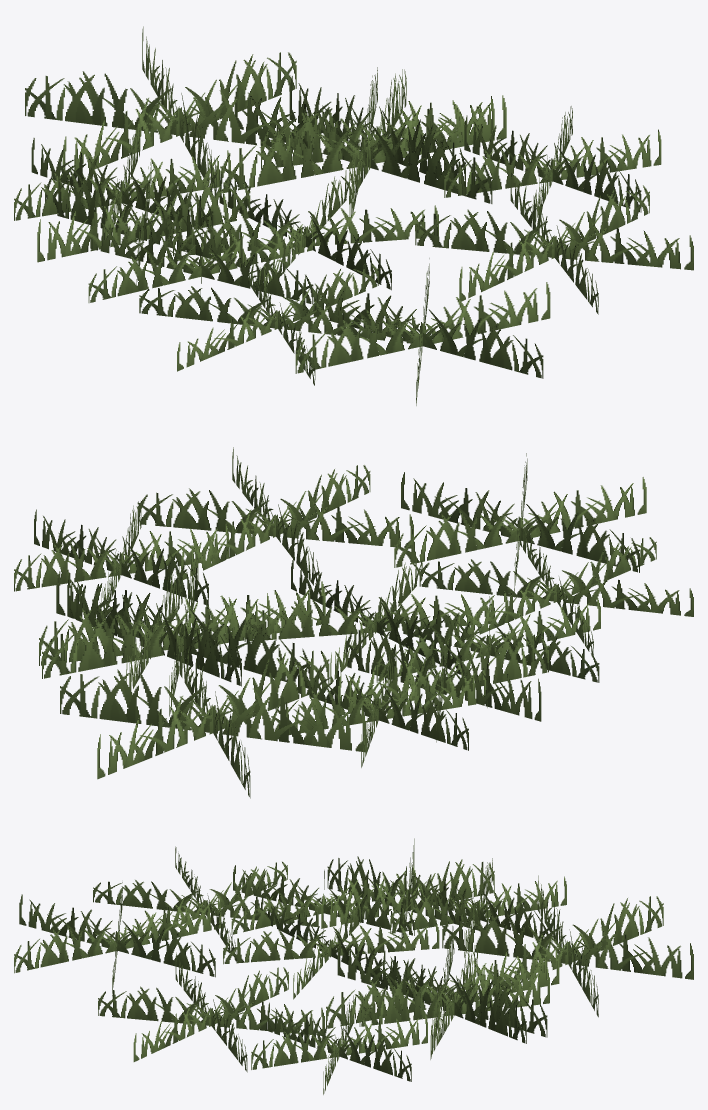
The model's file is grass-short-protected.glb.
3 views of the same model, one above another, from view 1: azimuth 30°, elevation 25°; view 2: azimuth 150°, elevation 25°; view 3: azimuth 270°, elevation 25° (orthographic). The views are drawn at different scales.
Visible parts, largest first — view 1: grass-short-protected-blades; view 2: grass-short-protected-blades; view 3: grass-short-protected-blades.
Boxes of the visible parts, x1,y1,x2,y2 form: grass-short-protected-blades: [14, 26, 693, 405]; grass-short-protected-blades: [14, 447, 693, 798]; grass-short-protected-blades: [14, 838, 693, 1094].
Size of the model in its own units: 1.12 by 0.1033 by 1.41.
1 material, 1 textured.
